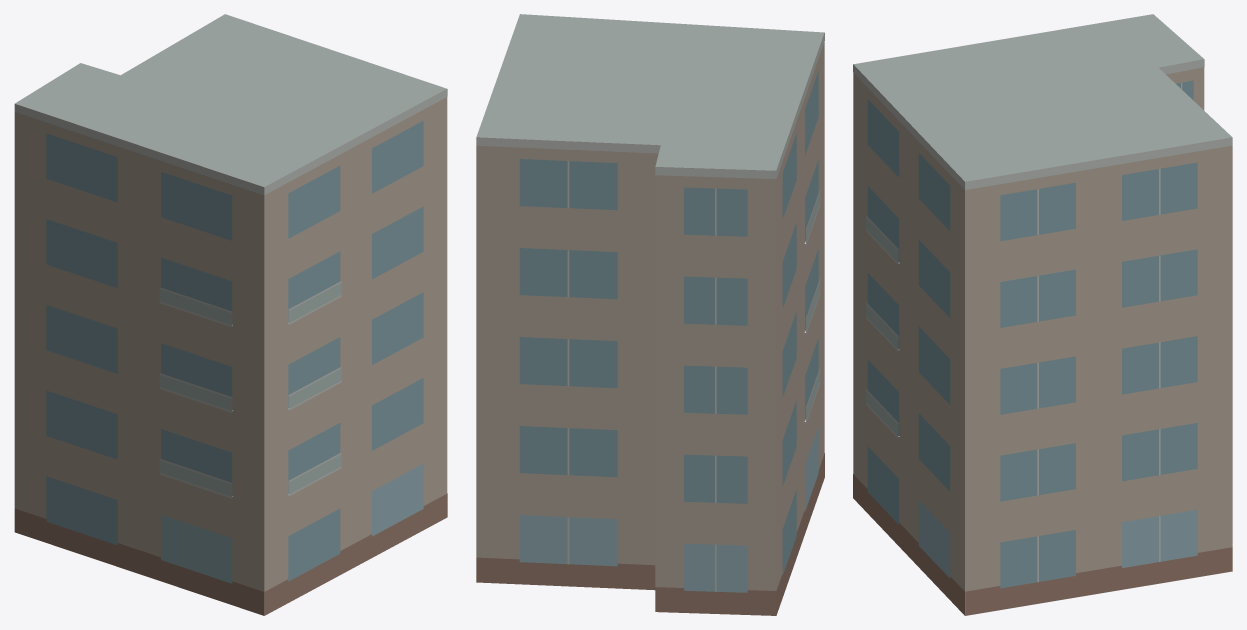
File: survey-upis-32679457.glb
The picture shows the model from 3 angles, left to right: view 1: azimuth 30°, elevation 25°; view 2: azimuth 150°, elevation 25°; view 3: azimuth 270°, elevation 25°; orthographic projection. The views are drawn at different scales.
Parts seen in each view (by area): view 1: survey-upis-32679457.tmp; view 2: survey-upis-32679457.tmp; view 3: survey-upis-32679457.tmp.
Part boxes in pixels (x1,y1,x2,y2): survey-upis-32679457.tmp: (14, 14, 447, 615); survey-upis-32679457.tmp: (476, 14, 824, 615); survey-upis-32679457.tmp: (853, 14, 1232, 615).
Bounding box in the file's own units: 10.75 × 12.95 × 10.27.
